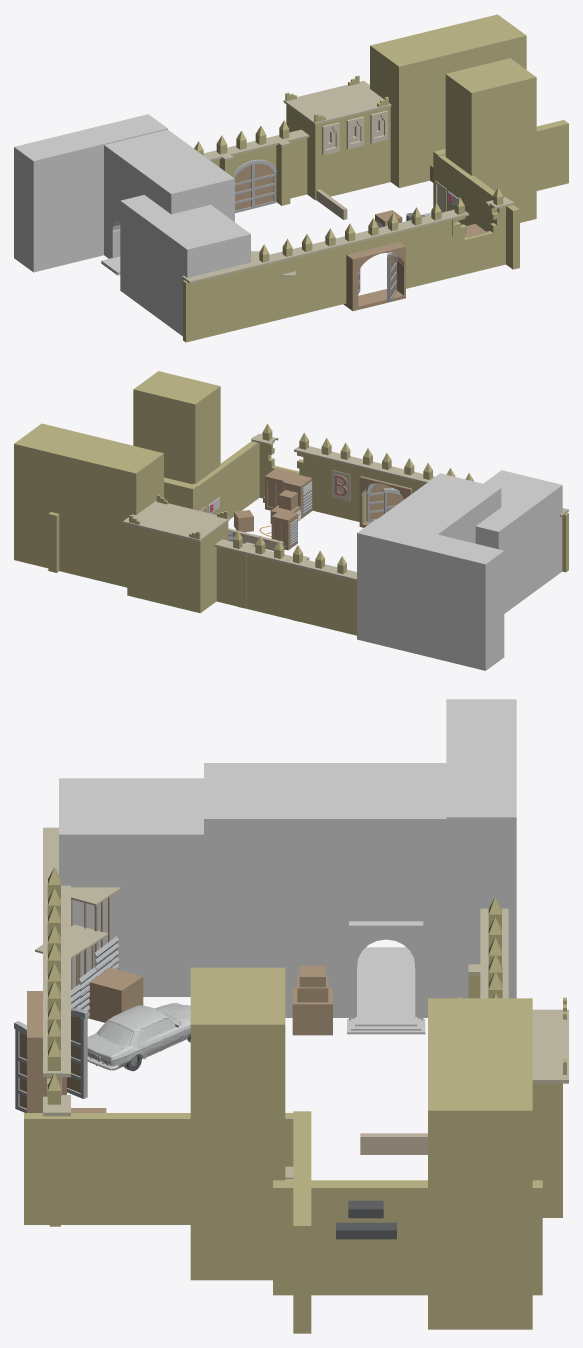
Rendered from dust2.glb.
3 views of the same model, one above another, from view 1: azimuth 30°, elevation 25°; view 2: azimuth 150°, elevation 25°; view 3: azimuth 270°, elevation 25° (orthographic). The views are drawn at different scales.
Parts seen in each view (by area): view 1: Mesh_Mesh_head_geo.001_lambert2SG.001; view 2: Mesh_Mesh_head_geo.001_lambert2SG.001; view 3: Mesh_Mesh_head_geo.001_lambert2SG.001.
Boxes of the visible parts, x1,y1,x2,y2 form: Mesh_Mesh_head_geo.001_lambert2SG.001: (14, 14, 568, 342); Mesh_Mesh_head_geo.001_lambert2SG.001: (14, 371, 568, 670); Mesh_Mesh_head_geo.001_lambert2SG.001: (14, 699, 568, 1333).
Bounding box in the file's own units: 510 × 143 × 276.
